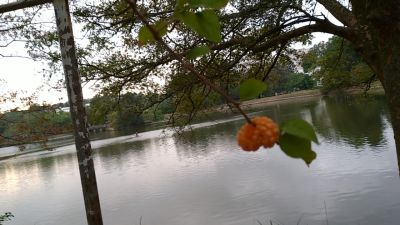eggs: (235, 115, 281, 153)
